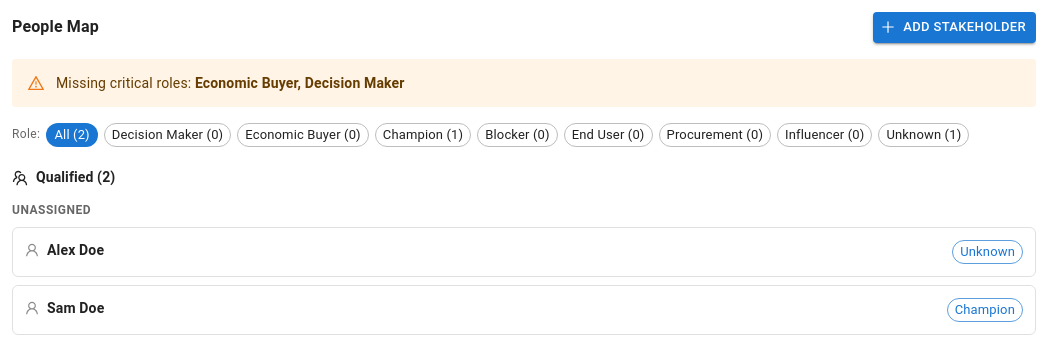
Scenario: PeopleTab — roles from the choices endpoint (TD-279 UI) › the 'Unknown' chip filters on the UNKNOWN role
The width and height of the screenshot is (1048, 352).
Click the button "Unknown (1)": coordinates (924, 135) [878,123,969,147]
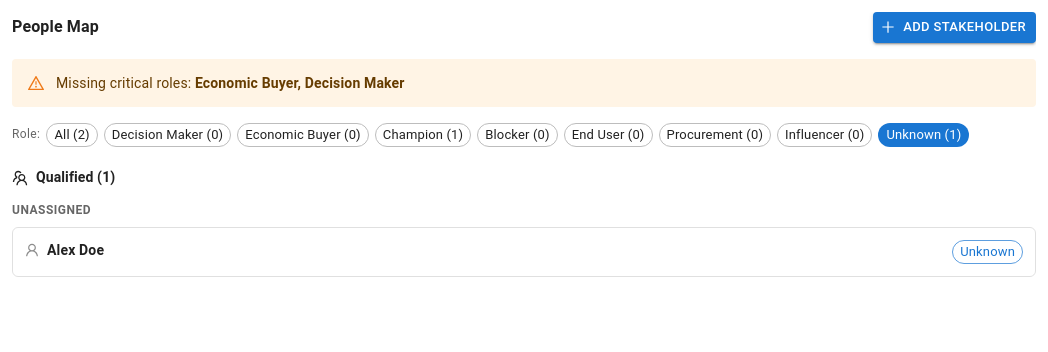
Check: the text "Alex Doe" is shown, box [47,240,104,260]
Check: the text "Sam Doe" is gone
